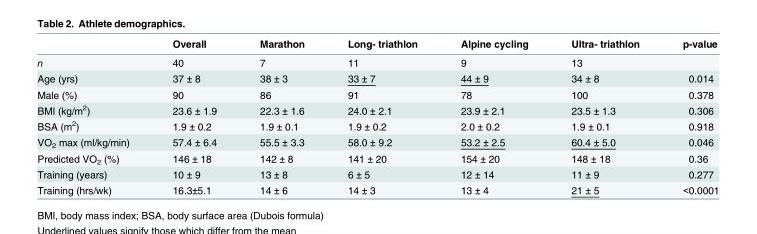table: (36, 37, 718, 195)
table column: (36, 37, 150, 195), (325, 37, 438, 195), (438, 37, 549, 195), (549, 37, 660, 195), (237, 37, 325, 195), (150, 37, 237, 195), (660, 37, 718, 195)
table column header: (36, 37, 718, 52)
table row: (36, 52, 718, 70), (36, 133, 718, 150), (36, 70, 718, 86), (36, 101, 718, 117), (36, 117, 718, 133), (36, 150, 718, 166), (36, 37, 718, 52), (36, 86, 718, 101), (36, 166, 718, 181), (36, 181, 718, 195)
